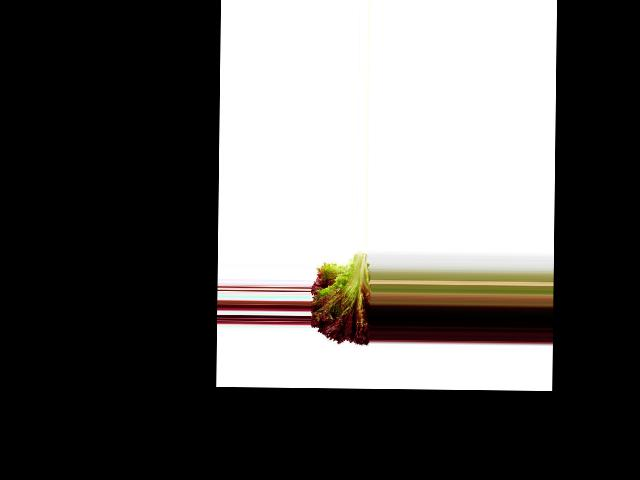lettuce: (311, 249, 371, 350)
